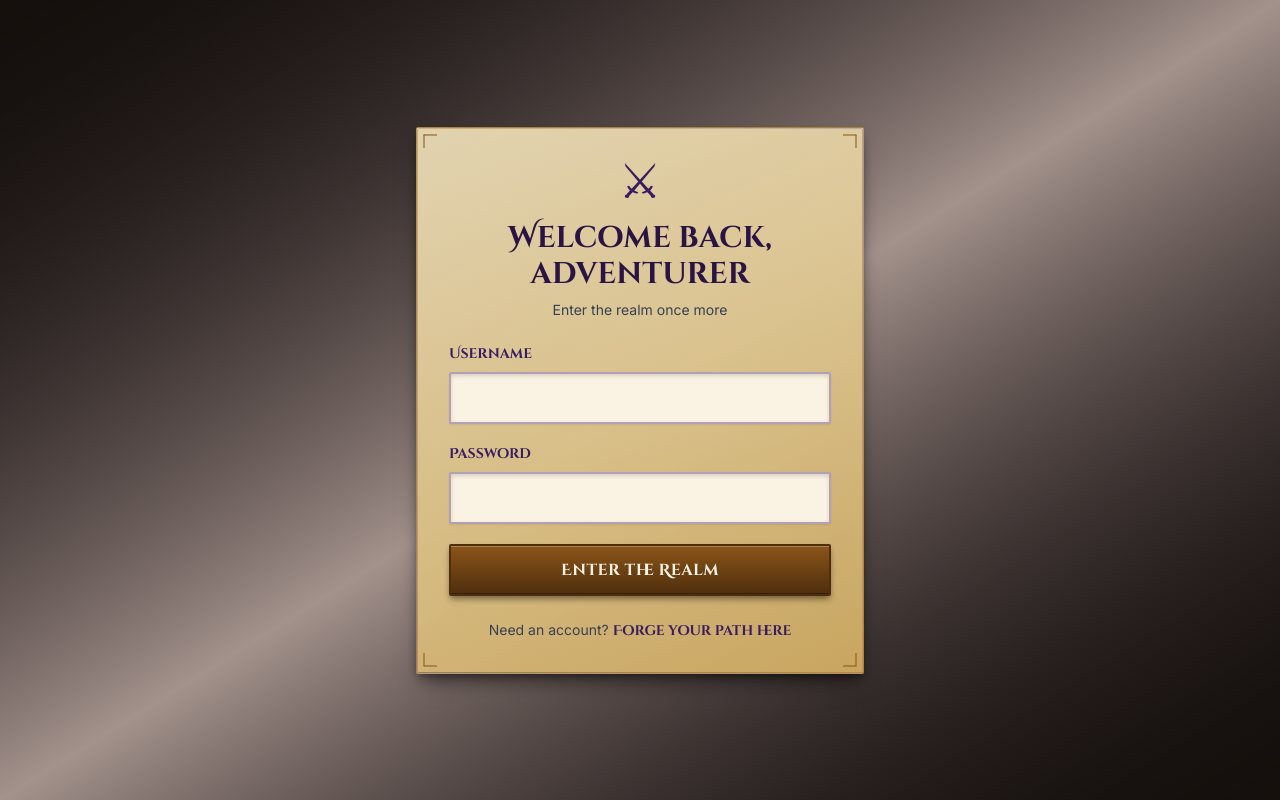
Test: Login Page › displays error message on login failure
Fill out form
In the field labelled "Username": (640,398) left=449, top=372, right=831, bottom=424, type "testuser"
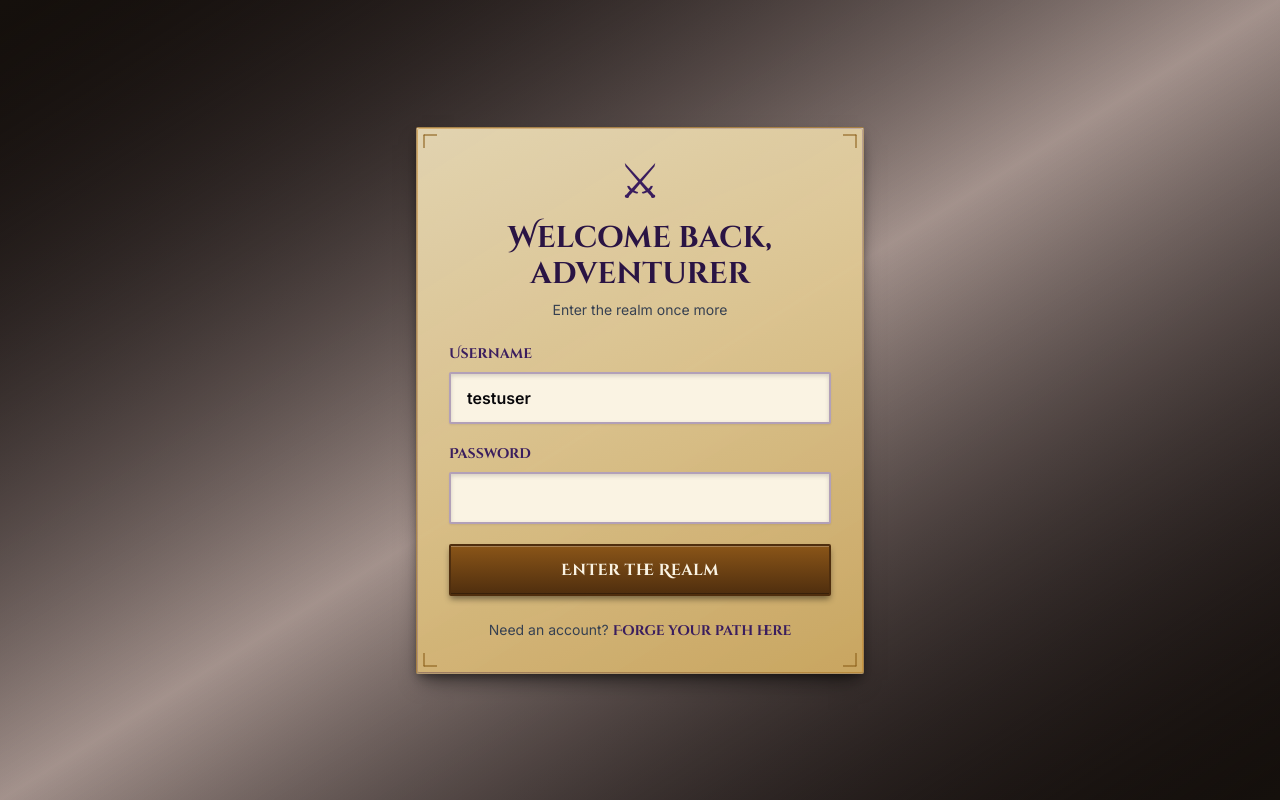
In the password field labelled "Password": (640,498) left=449, top=472, right=831, bottom=524, type "wrongpass"
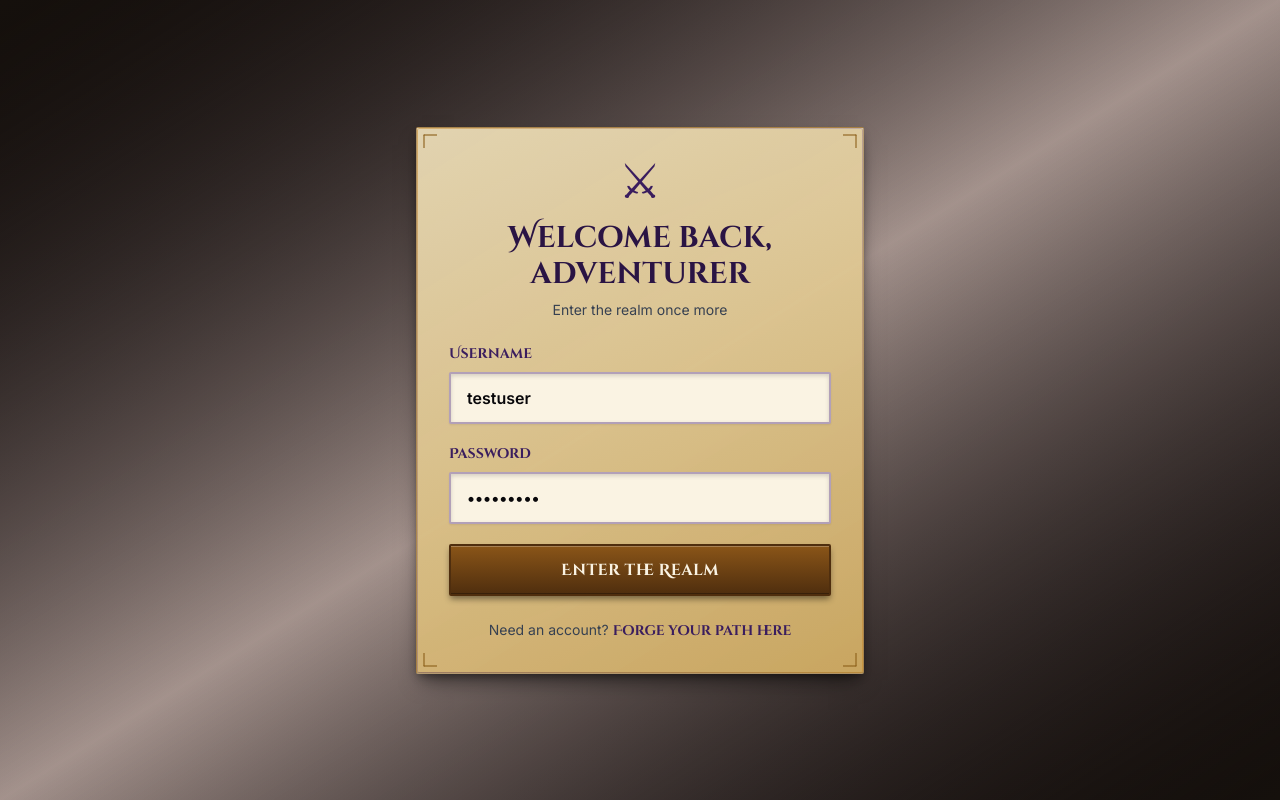
Click the button "Enter the Realm": (640,570) left=449, top=544, right=831, bottom=596
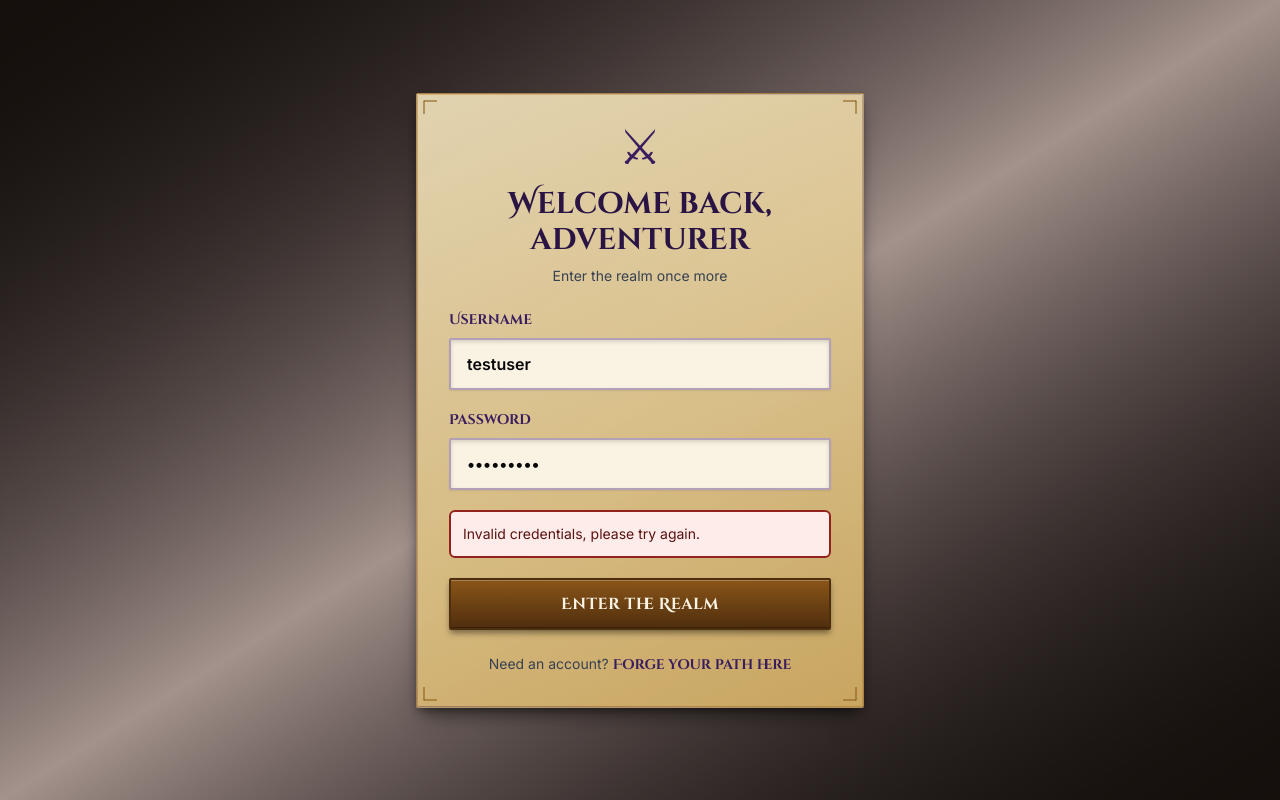
Expected: the text "Invalid credentials, please try again." is shown, left=463, top=524, right=700, bottom=542
